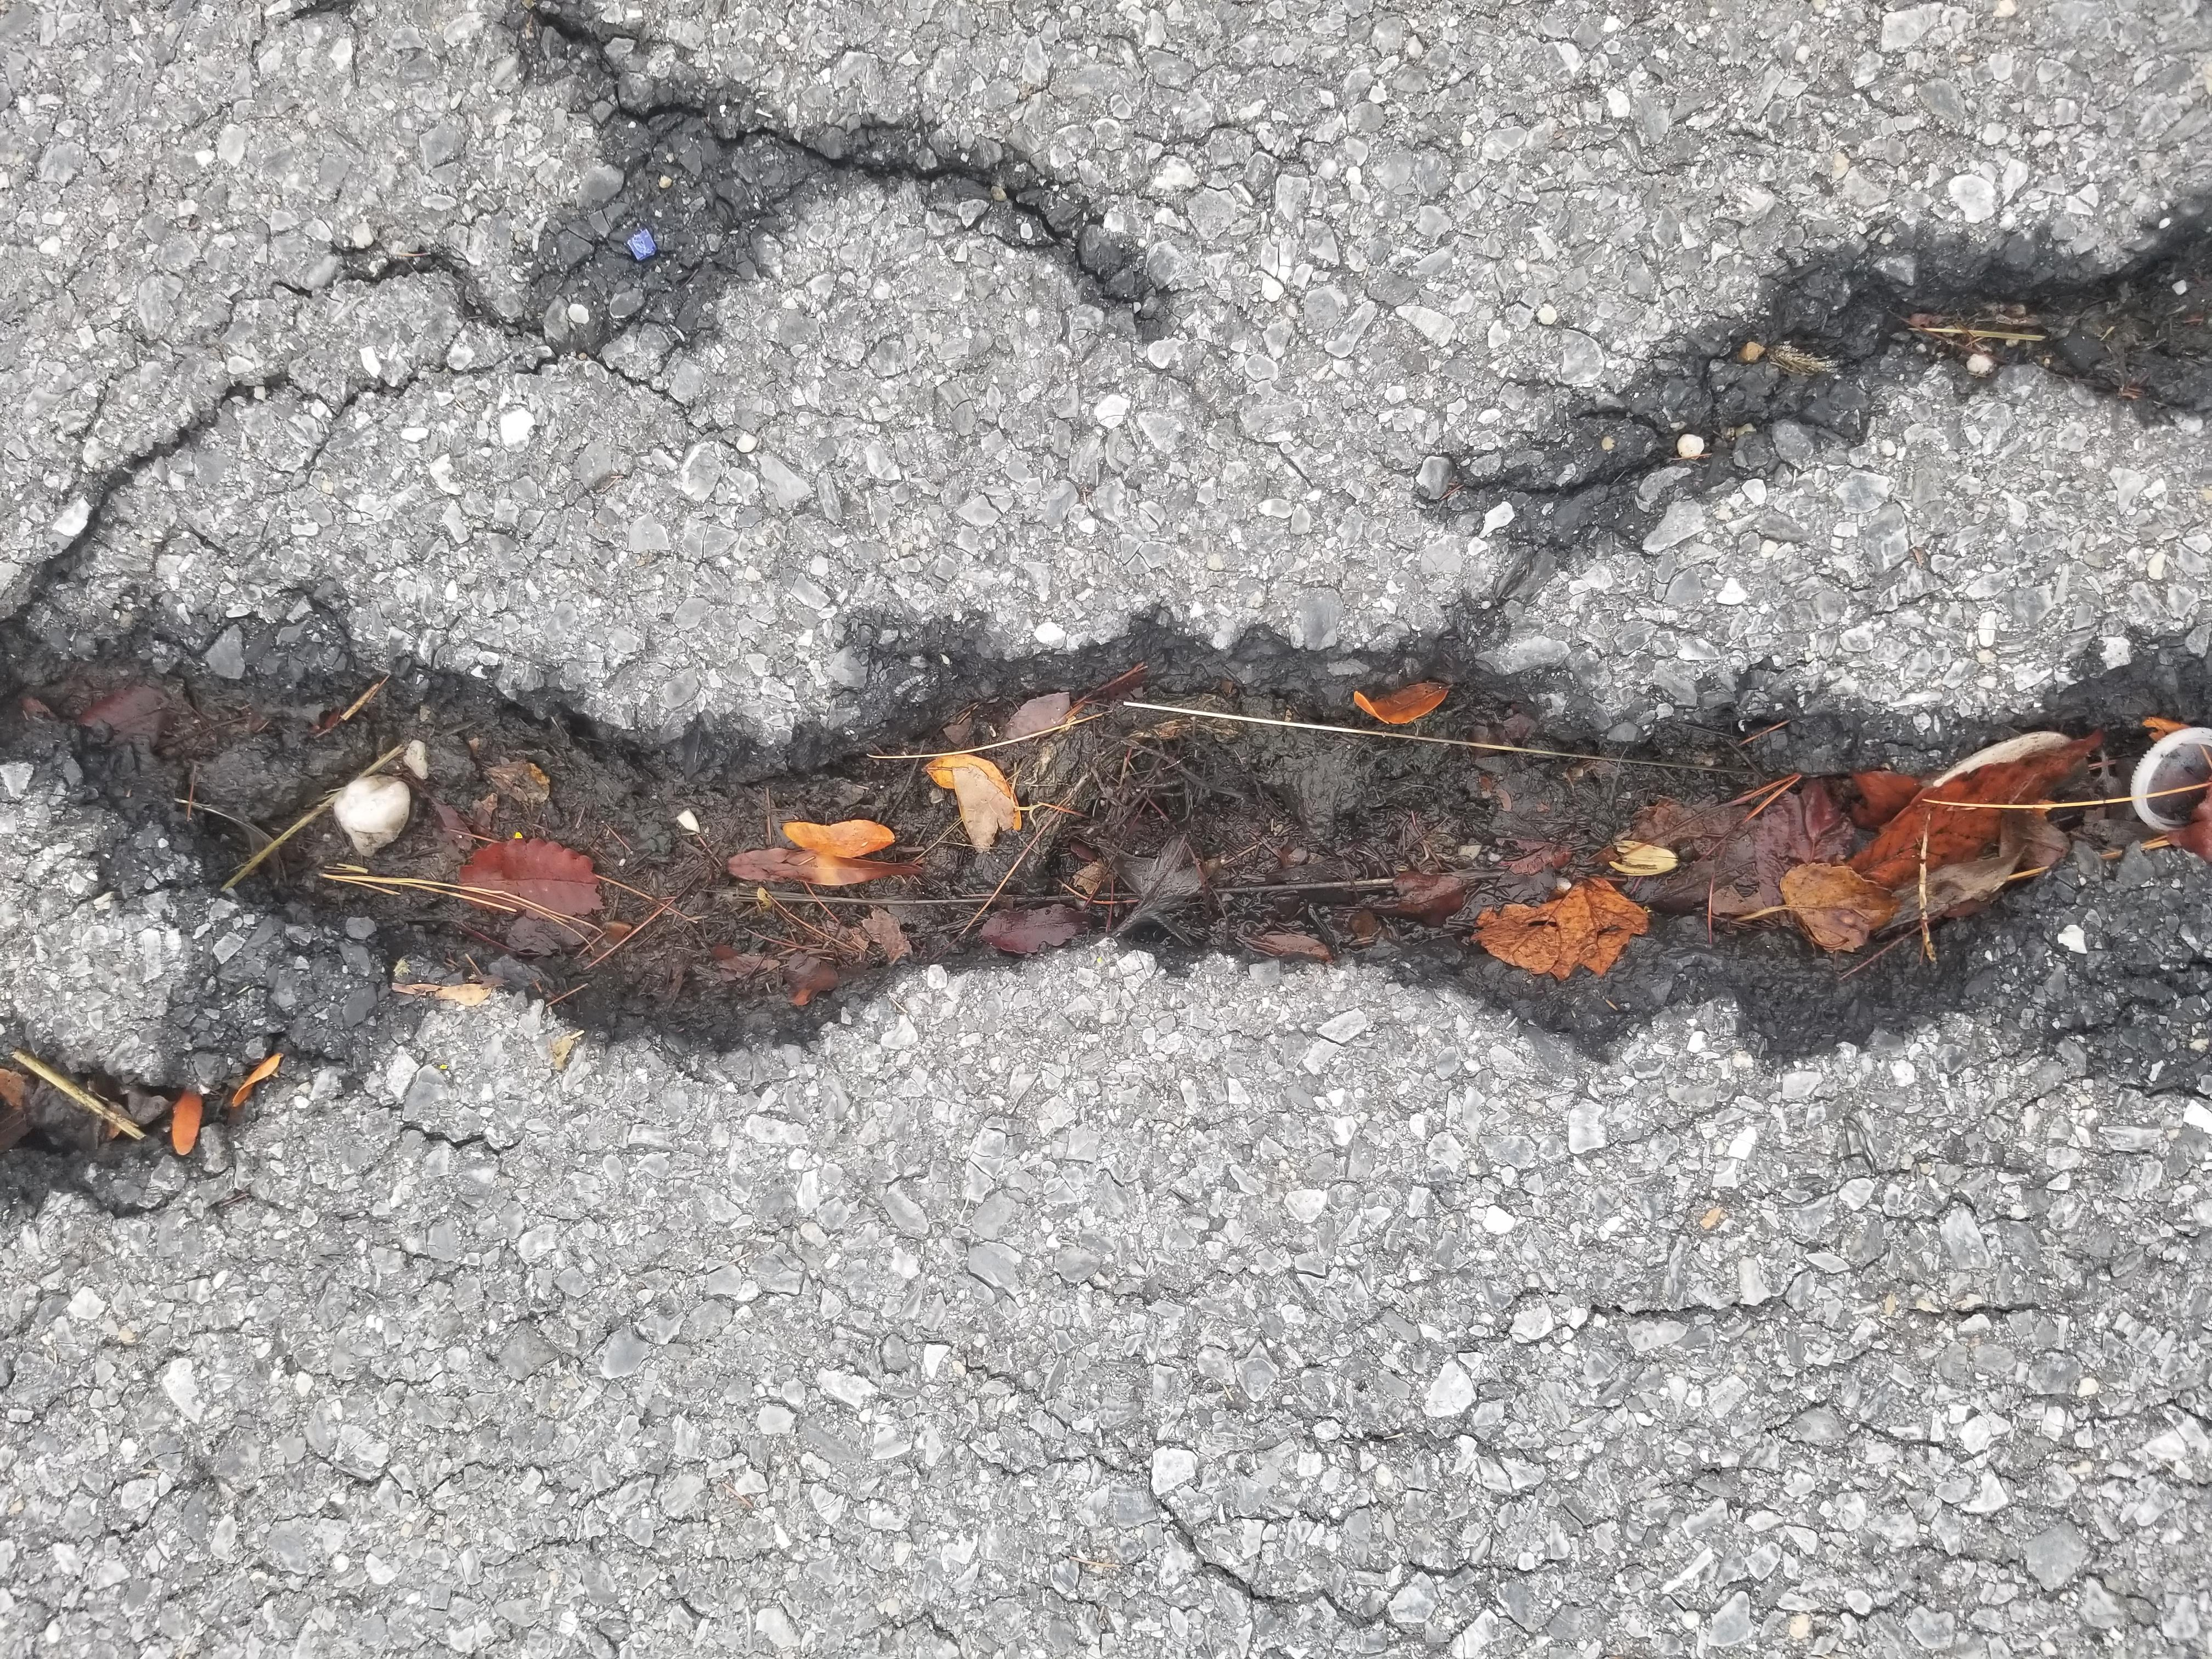crack: (730, 0, 1437, 1659)
